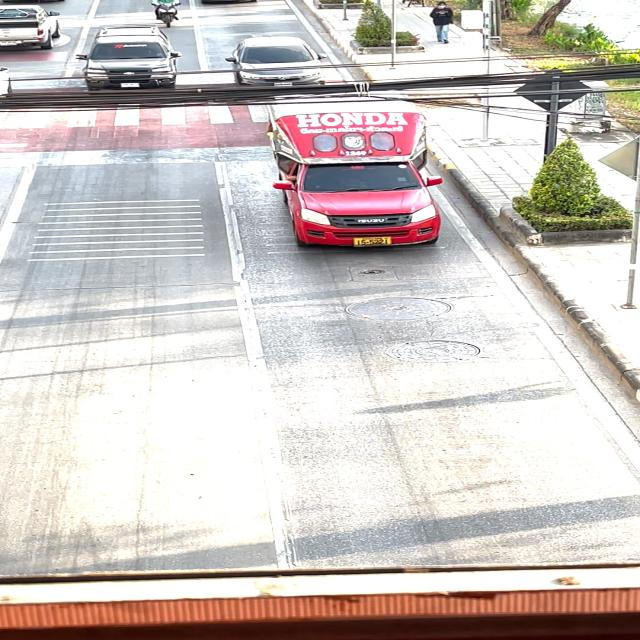car: (255, 87, 452, 269), (66, 22, 186, 101), (214, 30, 336, 98)
